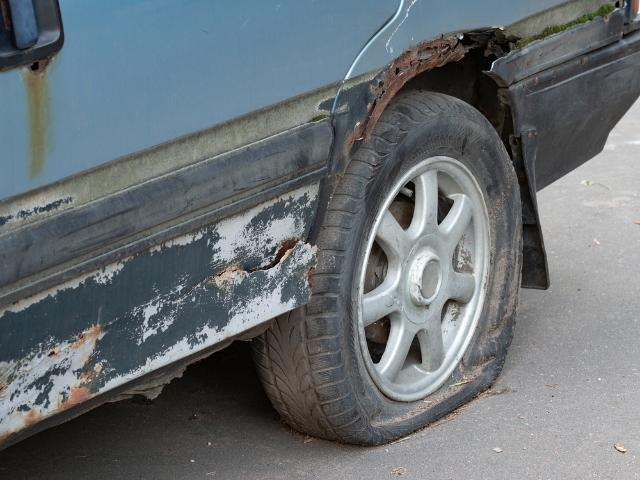crack: (179, 235, 304, 303)
tire flat: (252, 90, 523, 444)
